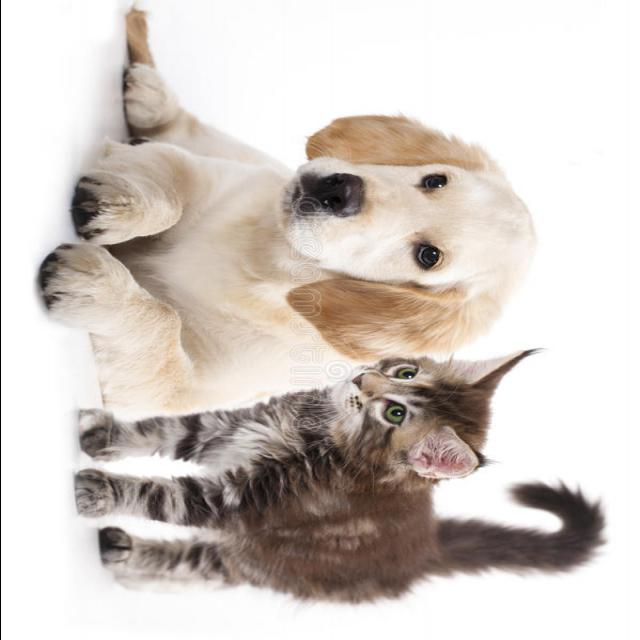cat: (48, 342, 610, 610)
dog: (47, 32, 528, 386)
